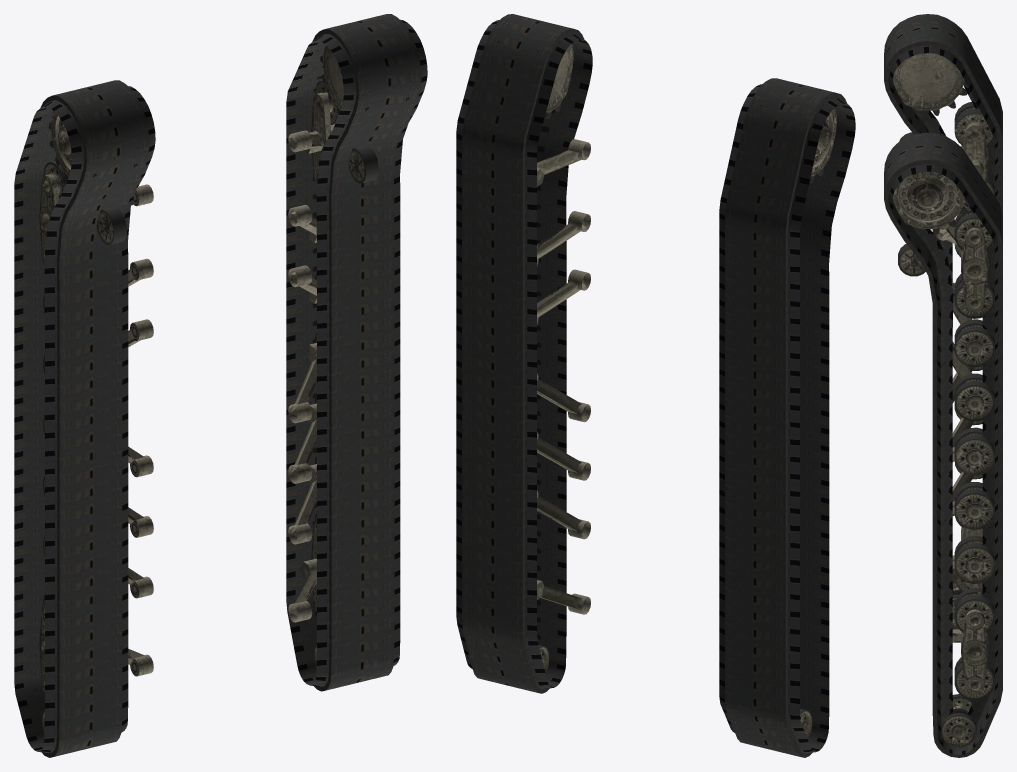
The model's file is Chassis.glb.
3 views of the same model, side by side, from view 1: azimuth 30°, elevation 25°; view 2: azimuth 150°, elevation 25°; view 3: azimuth 270°, elevation 25° (orthographic). The views are drawn at different scales.
Visible parts, largest first — view 1: set_0_group_0, set_1_group_0, set_3_group_0, set_2_group_0; view 2: set_0_group_0, set_1_group_0, set_3_group_0, set_2_group_0; view 3: set_1_group_0, set_3_group_0, set_0_group_0, set_2_group_0.
Boxes of the visible parts, box(x1,y1,x2,y2) form: set_0_group_0: box(14, 80, 155, 757); set_1_group_0: box(286, 14, 427, 691); set_3_group_0: box(288, 45, 411, 667); set_2_group_0: box(39, 111, 153, 733); set_0_group_0: box(719, 78, 855, 757); set_1_group_0: box(456, 14, 592, 693); set_3_group_0: box(497, 39, 590, 673); set_2_group_0: box(760, 103, 836, 739); set_1_group_0: box(884, 132, 1002, 757); set_3_group_0: box(892, 146, 994, 747); set_0_group_0: box(884, 14, 1002, 629); set_2_group_0: box(892, 27, 994, 628).
Size of the model in its own units: 3.4 by 6.13 by 1.1.
4 materials, 4 textured.
